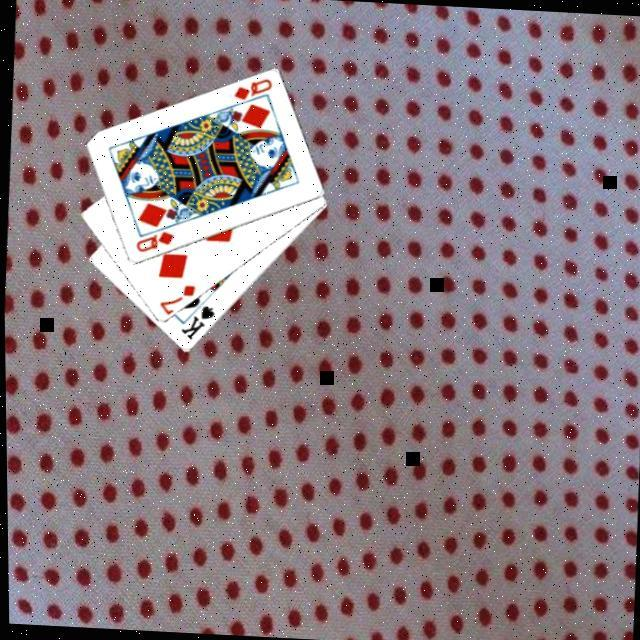7D: (157, 283, 200, 320)
KS: (178, 304, 218, 346)
QD: (134, 228, 178, 258), (232, 76, 276, 106)
